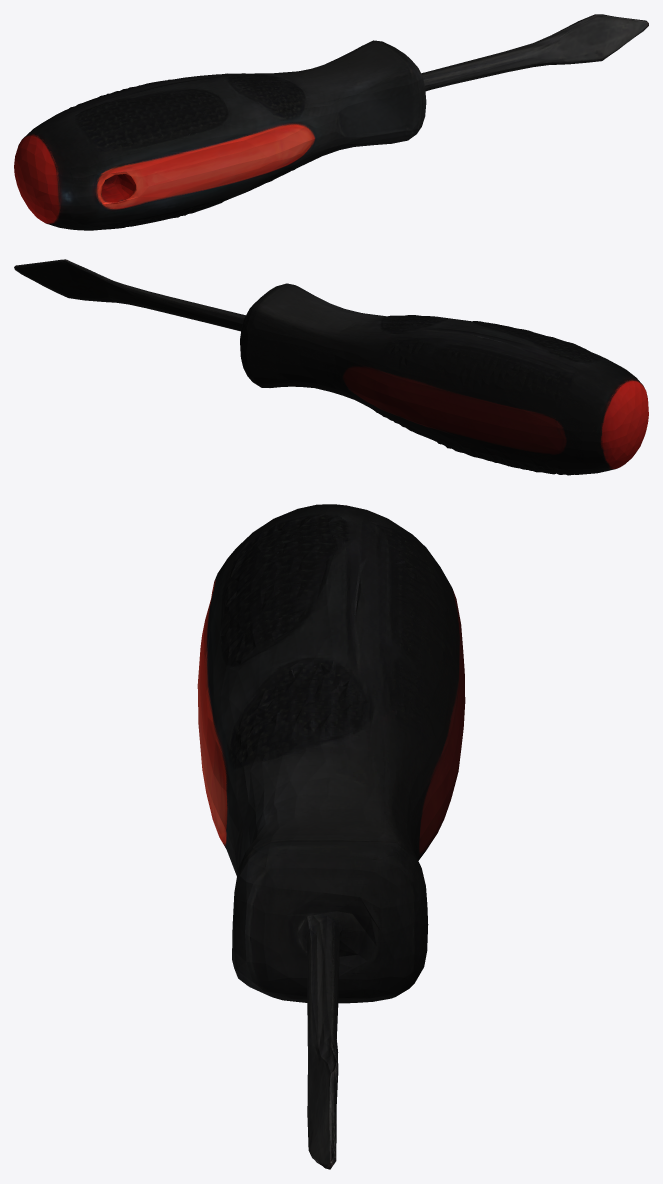
Rendered from short_screwdriver.glb.
3 renders of one model, top to bottom at view 1: azimuth 30°, elevation 25°; view 2: azimuth 150°, elevation 25°; view 3: azimuth 270°, elevation 25°, orthographic. The views are drawn at different scales.
Visible parts, largest first — view 1: short_screwdriver_visual0_0; view 2: short_screwdriver_visual0_0; view 3: short_screwdriver_visual0_0.
Boxes of the visible parts, left/top/right/bottom form: short_screwdriver_visual0_0: left=14, top=14, right=648, bottom=230; short_screwdriver_visual0_0: left=14, top=259, right=648, bottom=475; short_screwdriver_visual0_0: left=197, top=504, right=465, bottom=1169.
Bounding box in the file's own units: 0.1896 × 0.0353 × 0.0353.
Materials: 1 (1 with a texture image).
